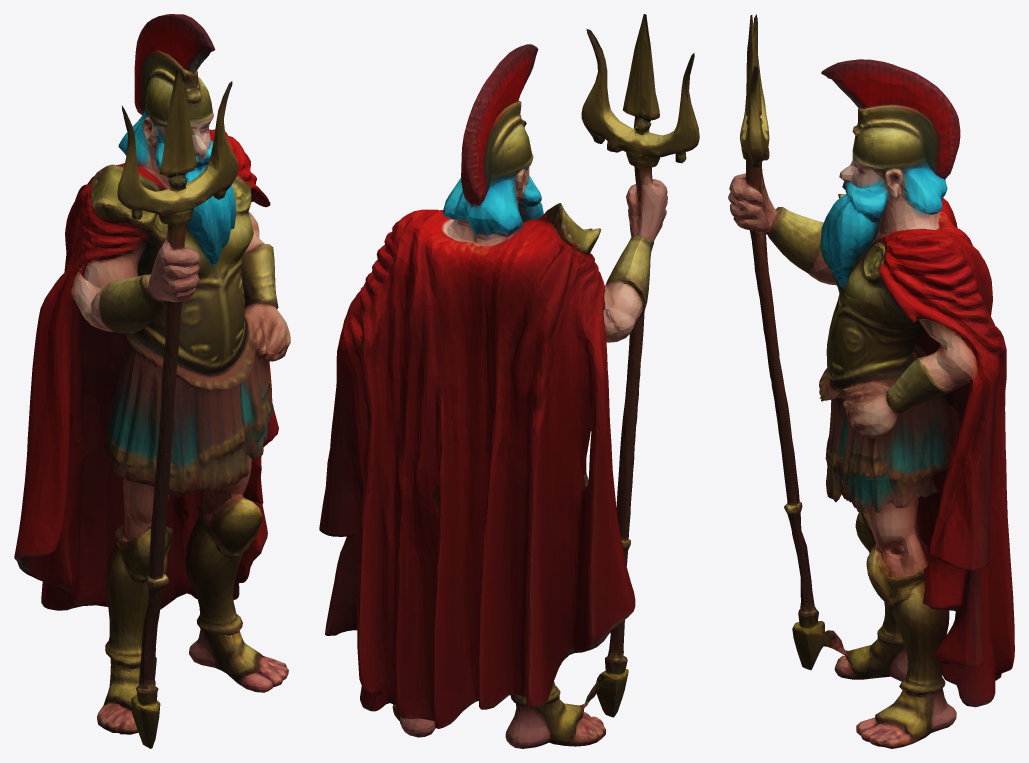
The model's file is model.trellis.glb.
3 views of the same model, side by side, from view 1: azimuth 30°, elevation 25°; view 2: azimuth 150°, elevation 25°; view 3: azimuth 270°, elevation 25° (orthographic). The views are drawn at different scales.
Parts seen in each view (by area): view 1: world; view 2: world; view 3: world.
Boxes of the visible parts, bbox=[...] form: world: bbox=[14, 14, 290, 748]; world: bbox=[319, 14, 699, 748]; world: bbox=[728, 14, 1014, 748].
Bounding box in the file's own units: 0.4348 × 1 × 0.399.
1 material, 1 textured.
